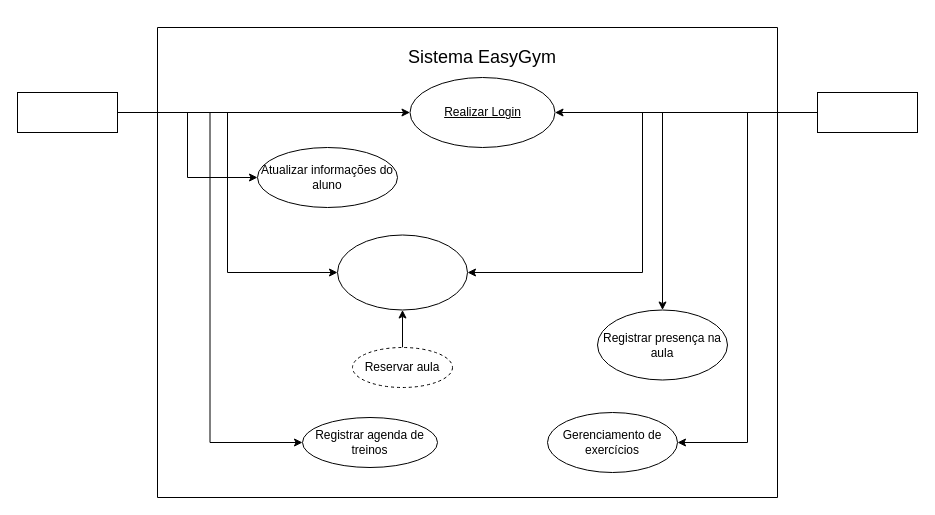
This 935x515 diagram has some shape labels left out. Here are the shapes that lost their labels. From the top down, the centre of each, then its label:
At point 67,112: "Aluno".
At point 867,112: "Professor".
At point 402,272: "Visualizar horários de aulas".
